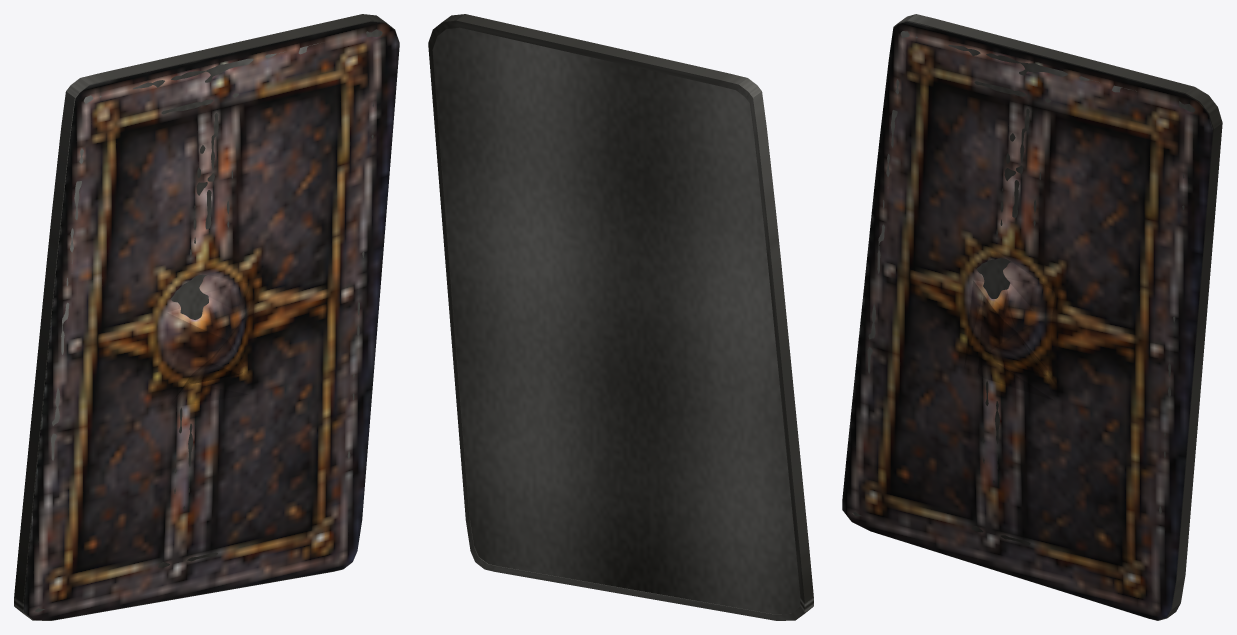
File: tower_plate.obj
3 views of the same model, side by side, from view 1: azimuth 30°, elevation 25°; view 2: azimuth 150°, elevation 25°; view 3: azimuth 330°, elevation 25° (orthographic).
Visible parts, largest first — view 1: plate_paint, plate_edge, plate_body; view 2: plate_body, plate_edge; view 3: plate_paint, plate_edge, plate_body.
Part boxes in pixels (<box>): plate_paint: <box>23,21,399,620</box>; plate_edge: <box>14,14,399,620</box>; plate_body: <box>35,29,382,612</box>; plate_body: <box>432,27,800,613</box>; plate_edge: <box>428,14,813,620</box>; plate_paint: <box>842,21,1212,620</box>; plate_edge: <box>842,14,1222,620</box>; plate_body: <box>853,31,1195,545</box>.
Size of the model in its own units: 80.72 by 112 by 8.49.
Materials: 2 (2 with a texture image).
